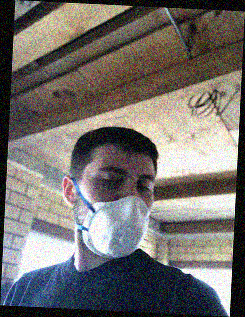with_mask: (79, 161, 154, 257)
